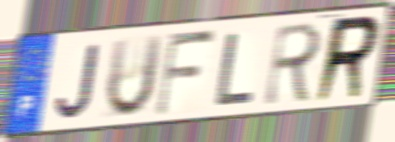F: (152, 28, 218, 119)
J: (54, 41, 102, 122)
L: (212, 30, 257, 109)
R: (311, 12, 383, 106), (261, 20, 325, 108)
U: (103, 32, 165, 121)
